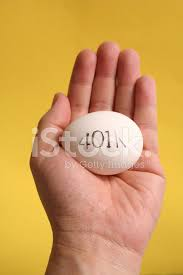egg: (61, 111, 143, 174)
